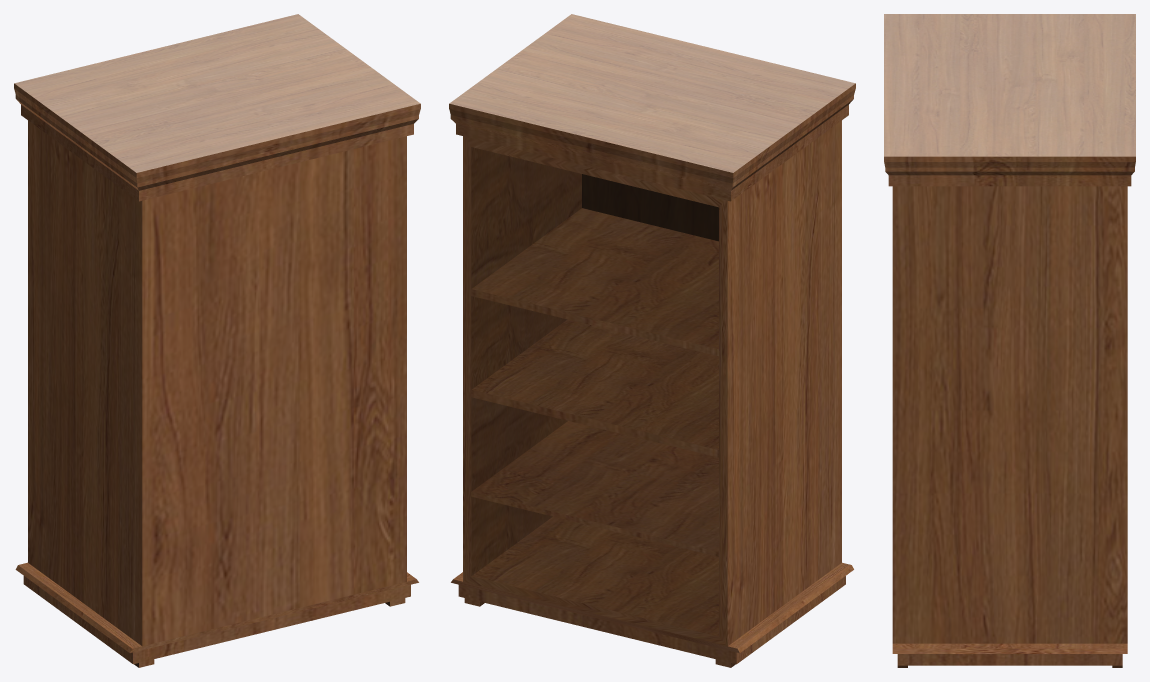
Rendered from prateleira_da_dispensa.fbx.
The picture shows the model from 3 angles, left to right: view 1: azimuth 30°, elevation 25°; view 2: azimuth 150°, elevation 25°; view 3: azimuth 270°, elevation 25°; orthographic projection. The views are drawn at different scales.
Parts seen in each view (by area): view 1: Prateleira da dispensa; view 2: Prateleira da dispensa; view 3: Prateleira da dispensa.
Part boxes in pixels (x1,y1,x2,y2): Prateleira da dispensa: (14, 14, 420, 667); Prateleira da dispensa: (449, 14, 855, 667); Prateleira da dispensa: (884, 14, 1135, 667).
Size of the model in its own units: 185 by 307 by 136.
1 material, 1 textured.
